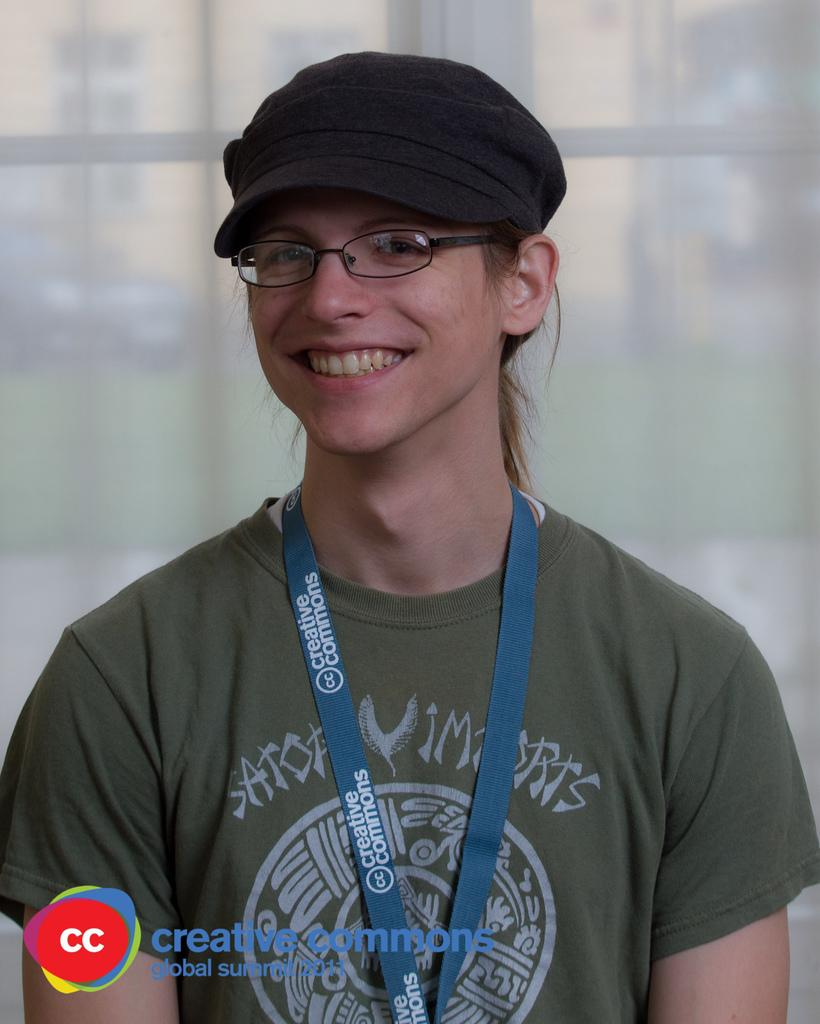Hat: (210, 48, 572, 258)
